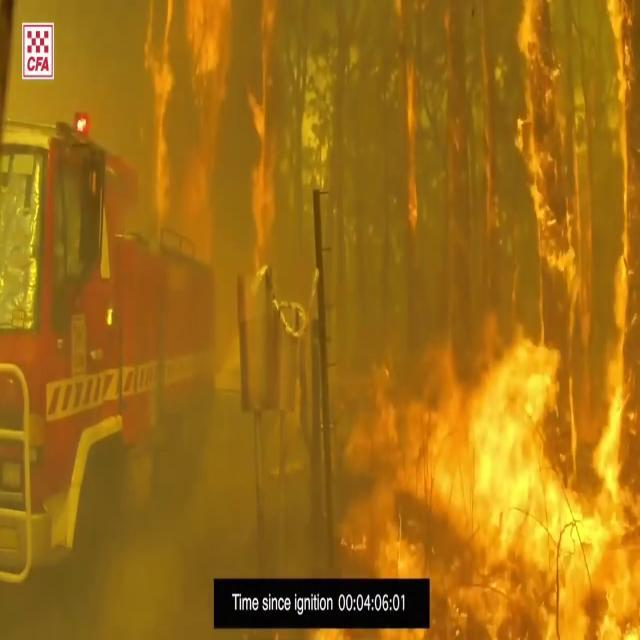Fire: (373, 0, 640, 625)
